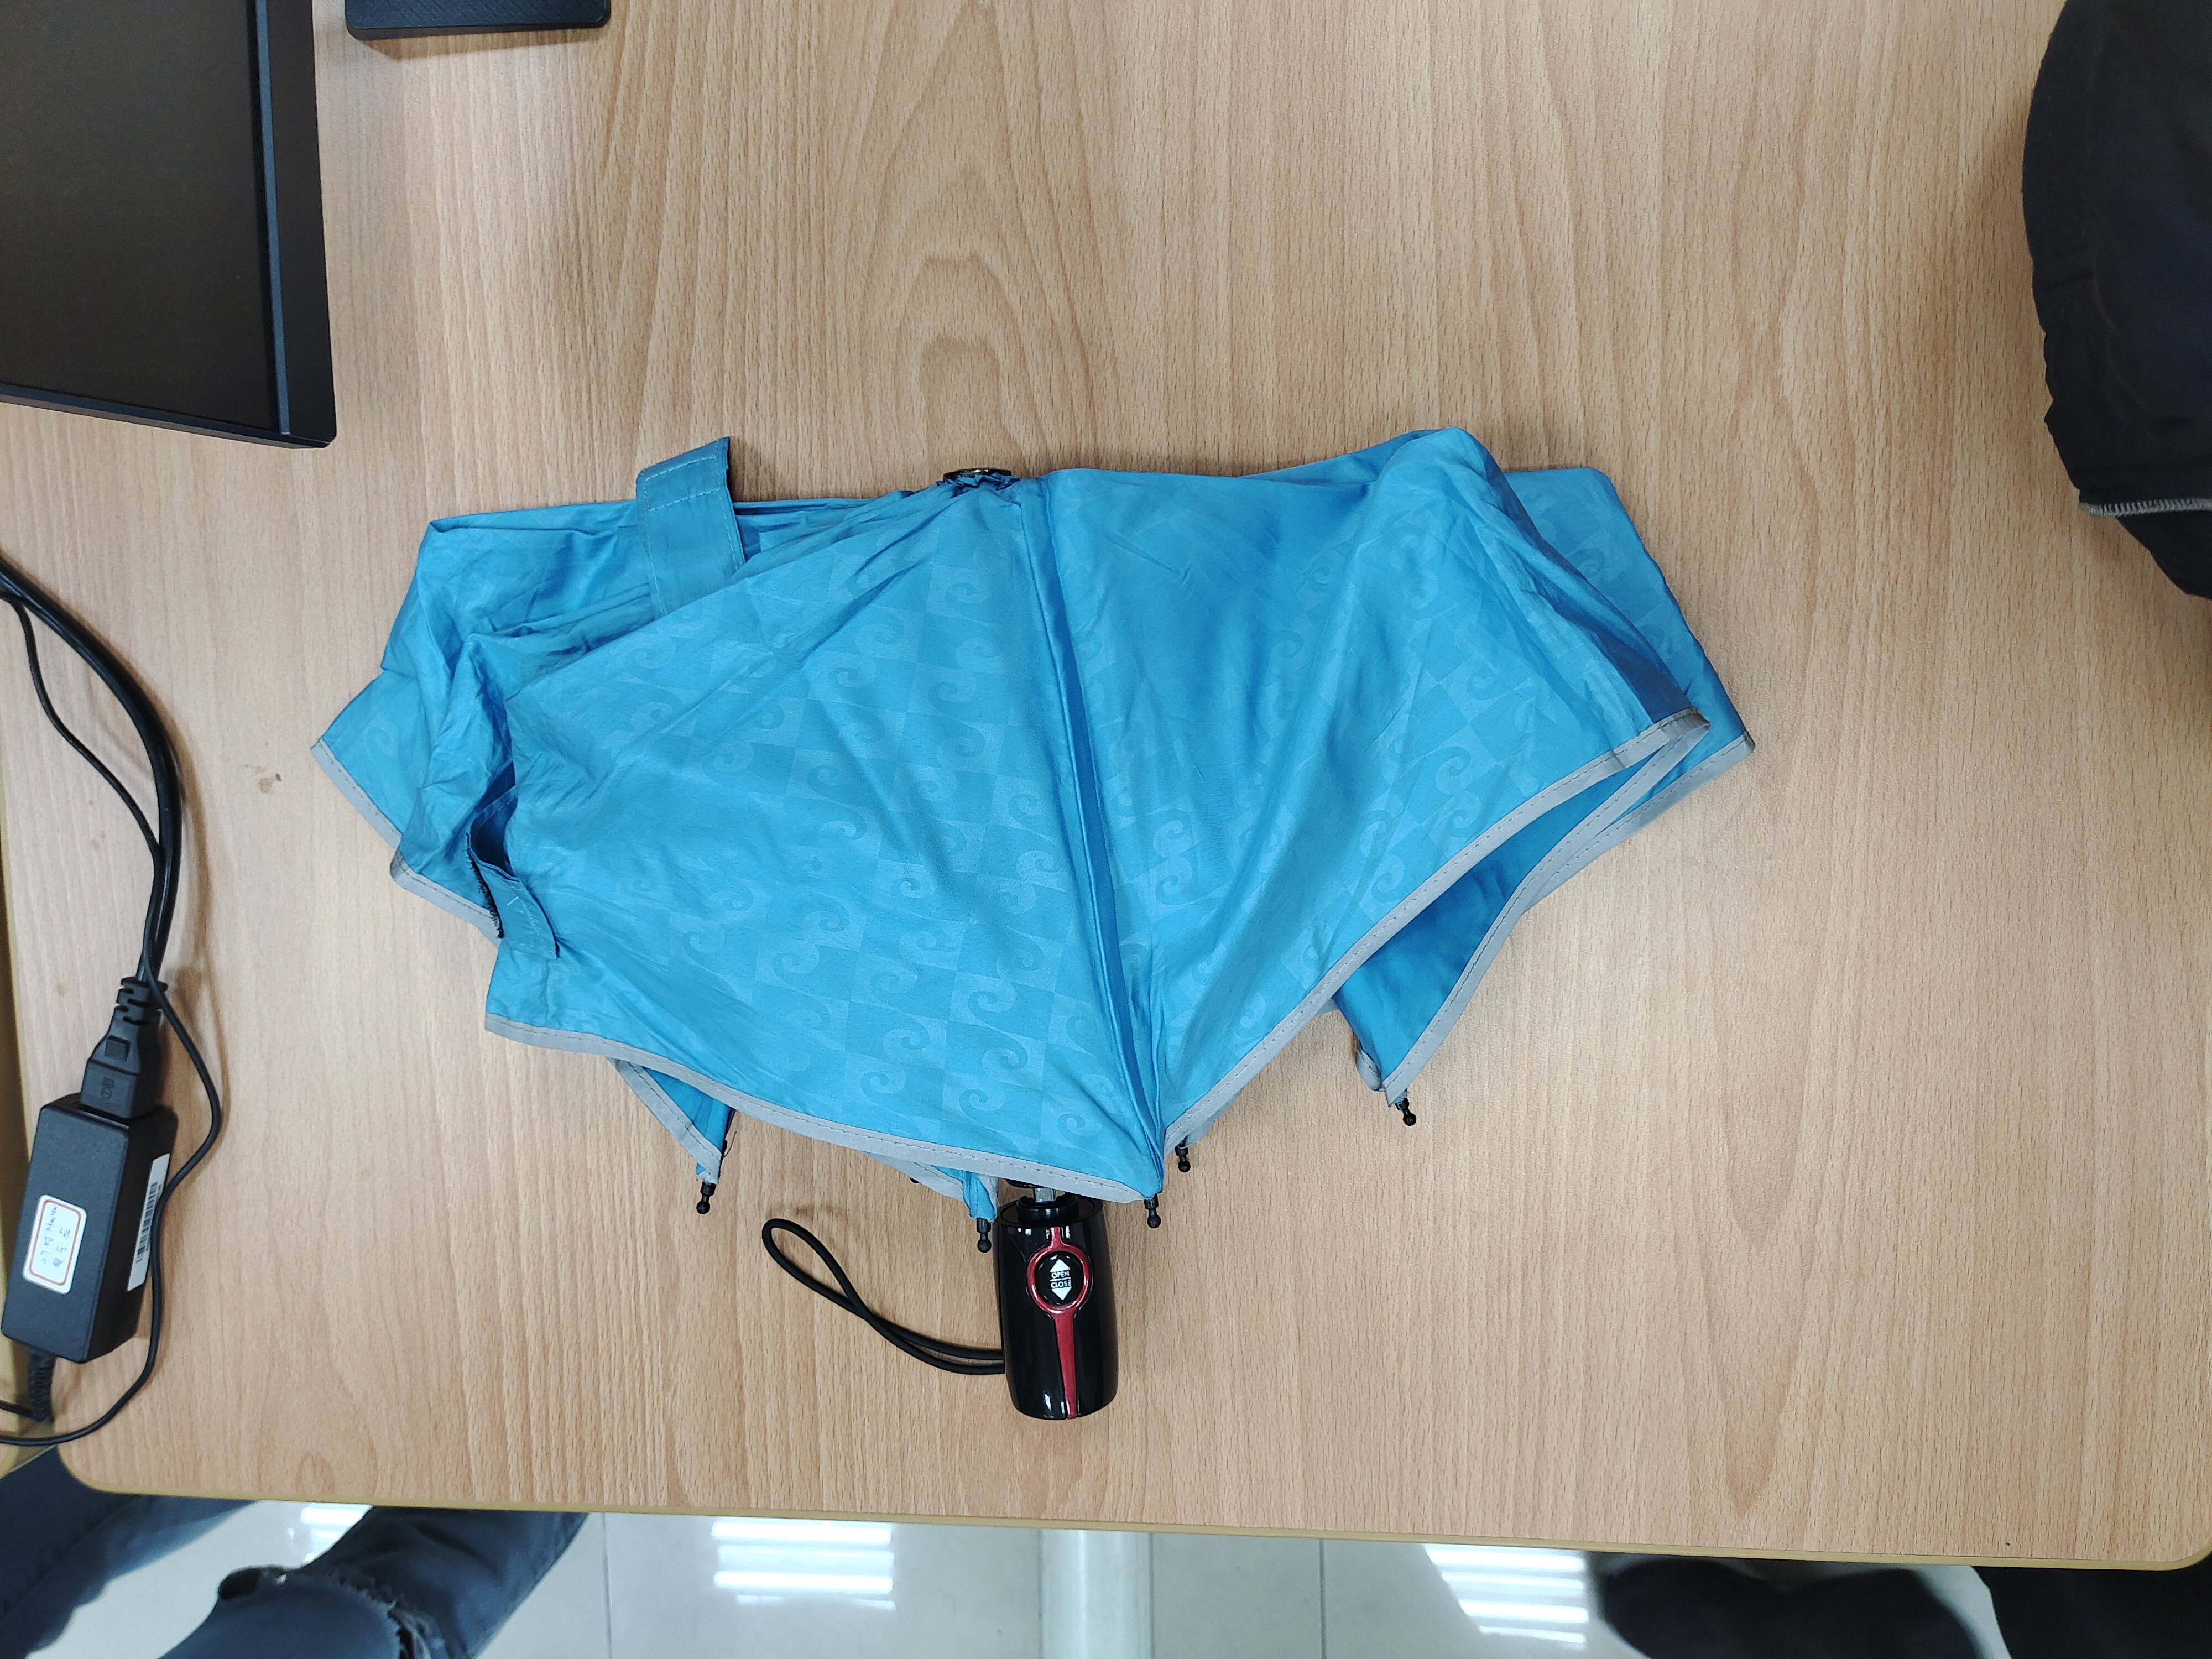umbrella: (301, 425, 1824, 1441)
